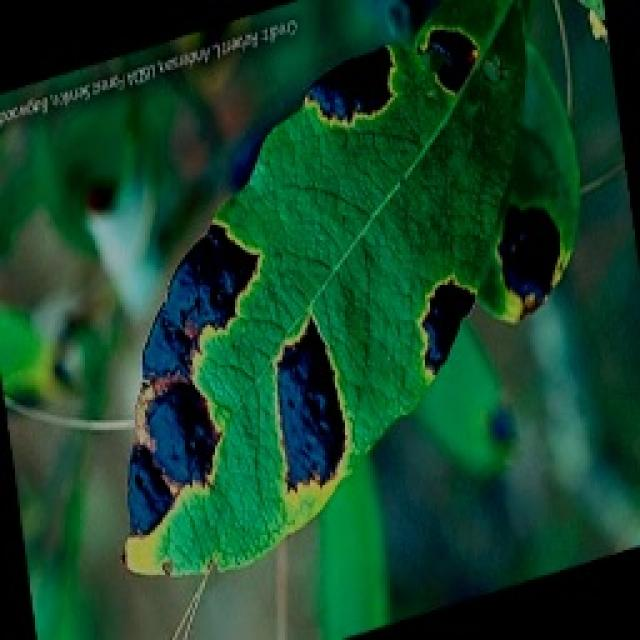Tar_Spot: (87, 82, 578, 558)
